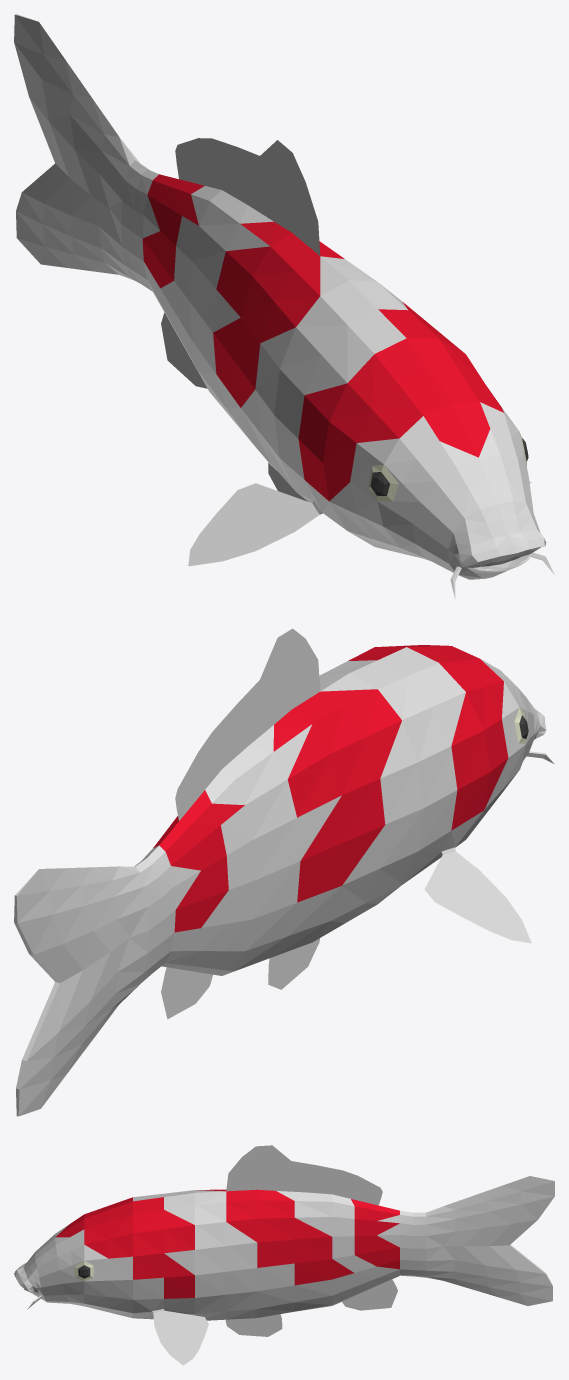
Rendered from koi_fish.glb.
3 renders of one model, top to bottom at view 1: azimuth 30°, elevation 25°; view 2: azimuth 150°, elevation 25°; view 3: azimuth 270°, elevation 25°, orthographic. The views are drawn at different scales.
Visible parts, largest first — view 1: Koi.002; view 2: Koi.002; view 3: Koi.002.
Boxes of the visible parts, x1,y1,x2,y2 form: Koi.002: (14, 14, 554, 598); Koi.002: (14, 628, 553, 1116); Koi.002: (14, 1145, 554, 1365).
Size of the model in its own units: 222 by 219 by 562.
